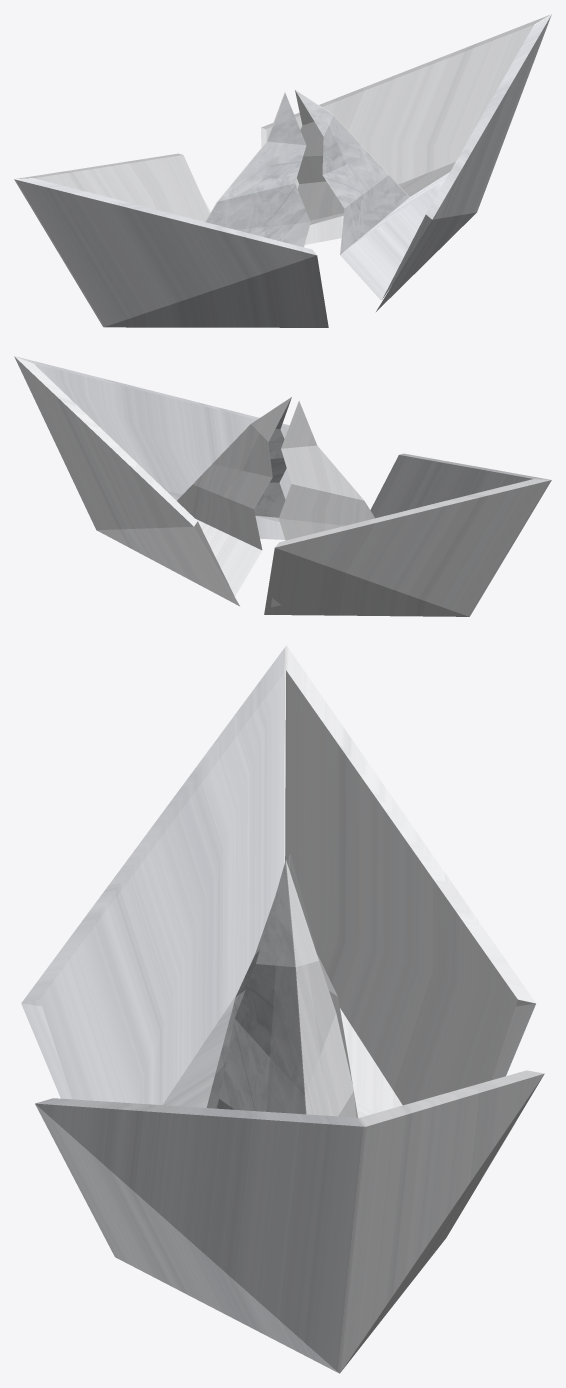
Rendered from brokenboat.fbx.
3 views of the same model, one above another, from view 1: azimuth 30°, elevation 25°; view 2: azimuth 150°, elevation 25°; view 3: azimuth 270°, elevation 25° (orthographic). The views are drawn at different scales.
Parts seen in each view (by area): view 1: Paperboat002; view 2: Paperboat002; view 3: Paperboat002.
Boxes of the visible parts, x1,y1,x2,y2 form: Paperboat002: (14,14,551,327); Paperboat002: (14,356,551,616); Paperboat002: (21,645,544,1373).
Bounding box in the file's own units: 70.84 × 24.29 × 31.
1 material, 1 textured.
